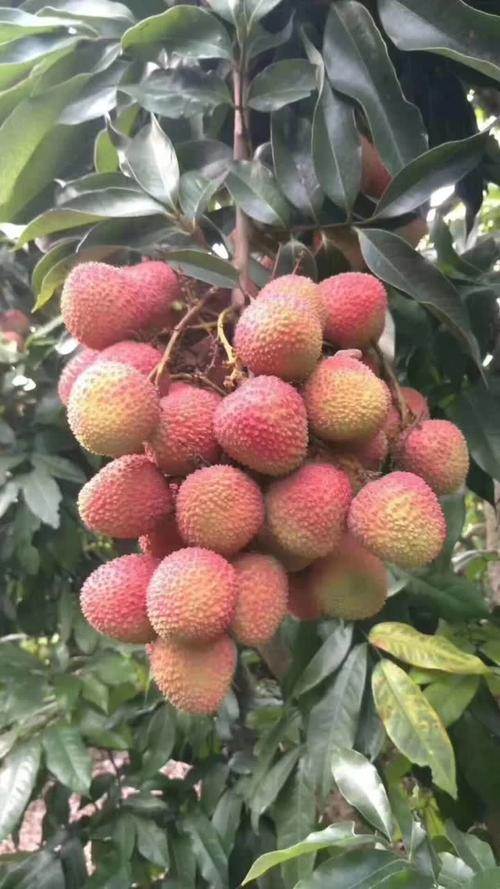litchi: (65, 268, 463, 709)
stem: (216, 57, 260, 323)
